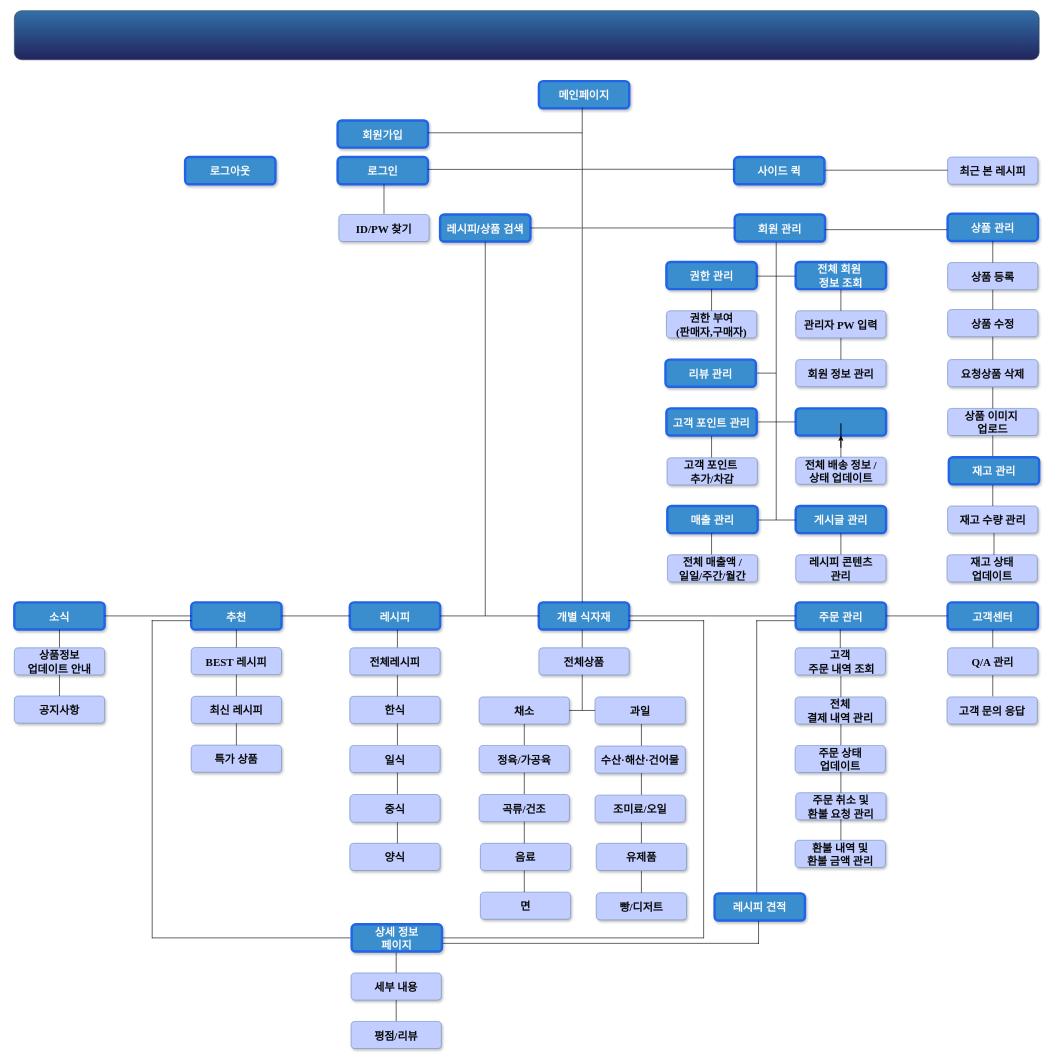
The diagram is 1054 pixels wide and 1064 high, and some of its shapes have lost their labels. The centre of each missing label's shape, as x and y in pixels:
배송 관리: (x=841, y=422)
정보구조도(푸드메이트) - 관리자: (x=526, y=35)
